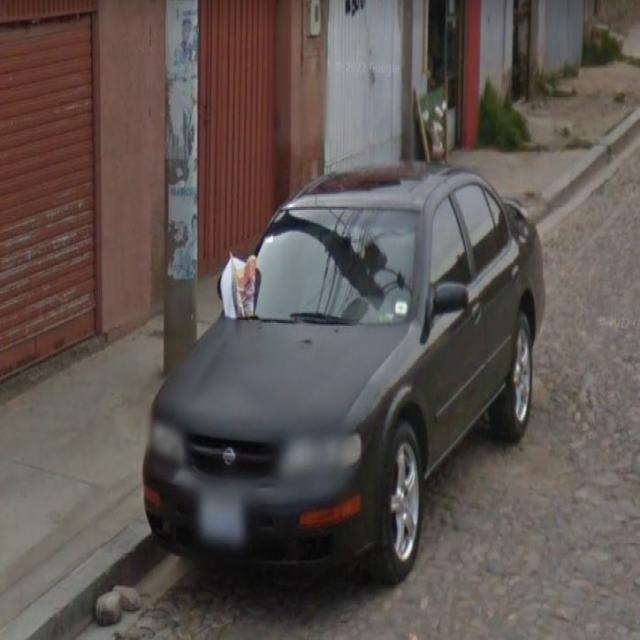cars: (147, 169, 537, 584)
